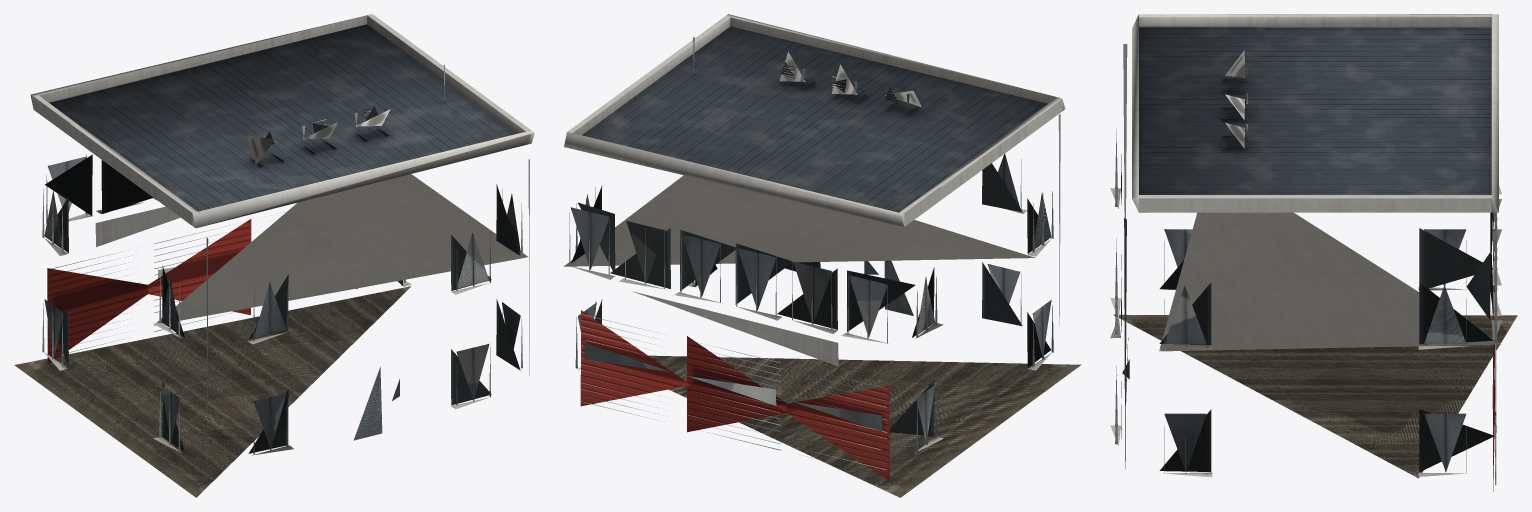
The model's file is public_007.lod2.obj.
3 views of the same model, side by side, from view 1: azimuth 30°, elevation 25°; view 2: azimuth 150°, elevation 25°; view 3: azimuth 270°, elevation 25° (orthographic). The views are drawn at different scales.
Visible parts, largest first — view 1: public_007; view 2: public_007; view 3: public_007.
Boxes of the visible parts, x1,y1,x2,y2 form: public_007: (14,14,534,497); public_007: (564,14,1081,497); public_007: (1110,14,1517,491).
Size of the model in its own units: 10.1 by 8.3 by 9.08.
1 material, 1 textured.
